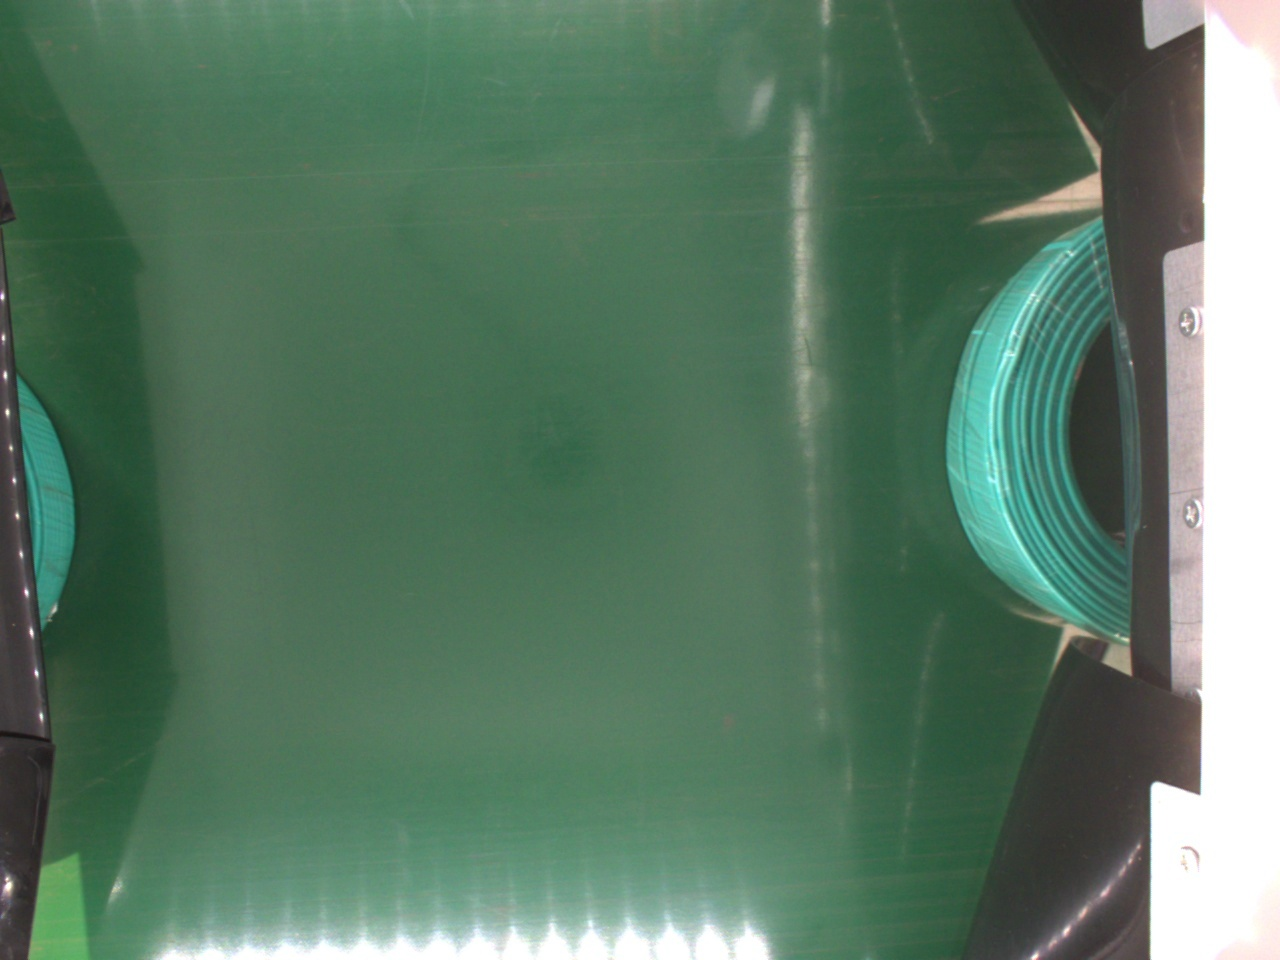green: (945, 215, 1136, 649)
